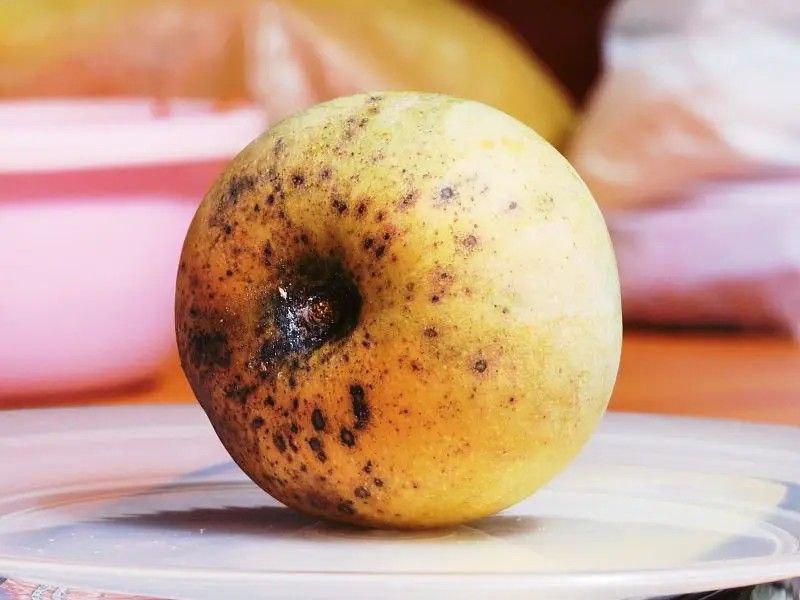Apple: (176, 92, 622, 532)
